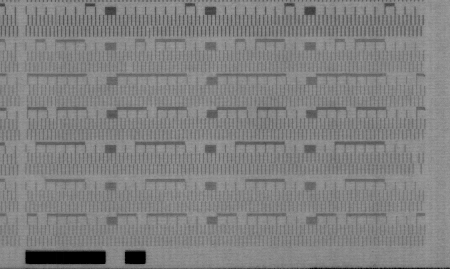Broken hole: (410, 150, 424, 174), (124, 60, 136, 75)
Oblique printing: (143, 25, 157, 42)
